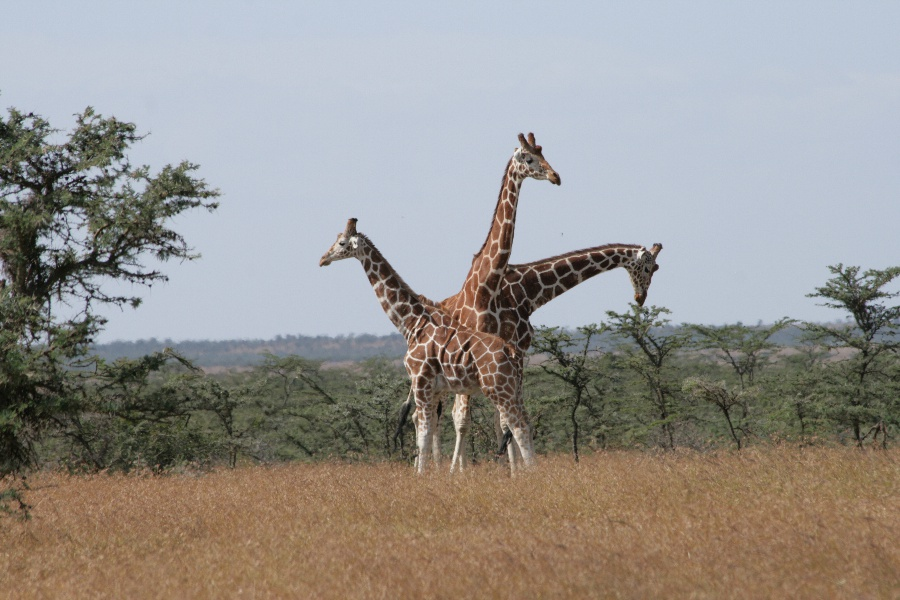giraffe: (511, 226, 703, 340)
